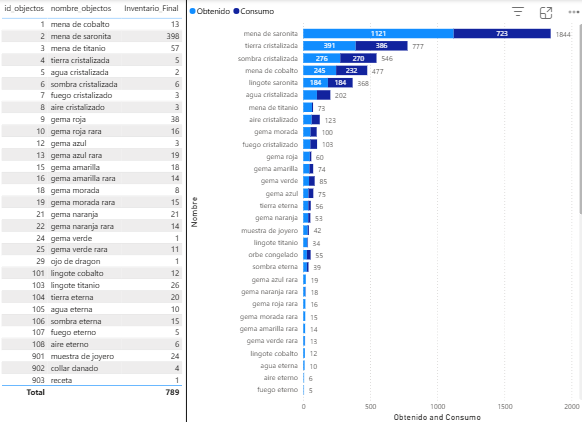

The page's visual inventory and layout, read from the dashboard file:
{"tool":"powerbi","page":{"name":"INVENTARIO","canvas":[1280,720],"ordinal":0},"visuals":[{"type":"tableEx","fields":{"Values":["public d_id_objectos.id_objectos","public d_id_objectos.nombre_objectos","Sum(public v_total_recoleccion.sum)","public v_total_consumo.sum","Sum(public v_total_obtengo.sum)","Sum(public v_prospeccion_cantidad.sum)","Sum(public v_total_prospeccion_resultados.sum)","Sum(public v_gemas_pulidas.sum)","Sum(public v_recetas_consumo.sum)","Sum(public v_transmutaciones_consumo.sum)","Sum(public v_transmutaciones_obtengo.sum)","Sum(public v_compras.sum)"]},"box":[0,496.6,994.8,222.4],"z":0},{"type":"tableEx","fields":{"Values":["public d_id_objectos.id_objectos","public d_id_objectos.nombre_objectos","public d_id_objectos.Inventario_Final"]},"box":[0,0,413.8,482.8],"z":1000},{"type":"barChart","fields":{"Category":["public d_id_objectos.nombre_objectos"],"Y":["public d_id_objectos.obtenido_Final","public d_id_objectos.consumo_Final"]},"box":[472.4,0,522.4,482.8],"z":2000}]}

Visuals, with their boxes on the page's 1280x720 design canvas (x1, y1, x2, y2). These are canvas units, not pixel positions in the 582x422 screenshot, which may show the page scaled, cropped or inside an application window:
tableEx - public d_id_objectos.id_objectos x public d_id_objectos.nombre_objectos: 0 497 995 719
tableEx - public d_id_objectos.id_objectos x public d_id_objectos.nombre_objectos: 0 0 414 483
barChart - public d_id_objectos.nombre_objectos x public d_id_objectos.obtenido_Final: 472 0 995 483
